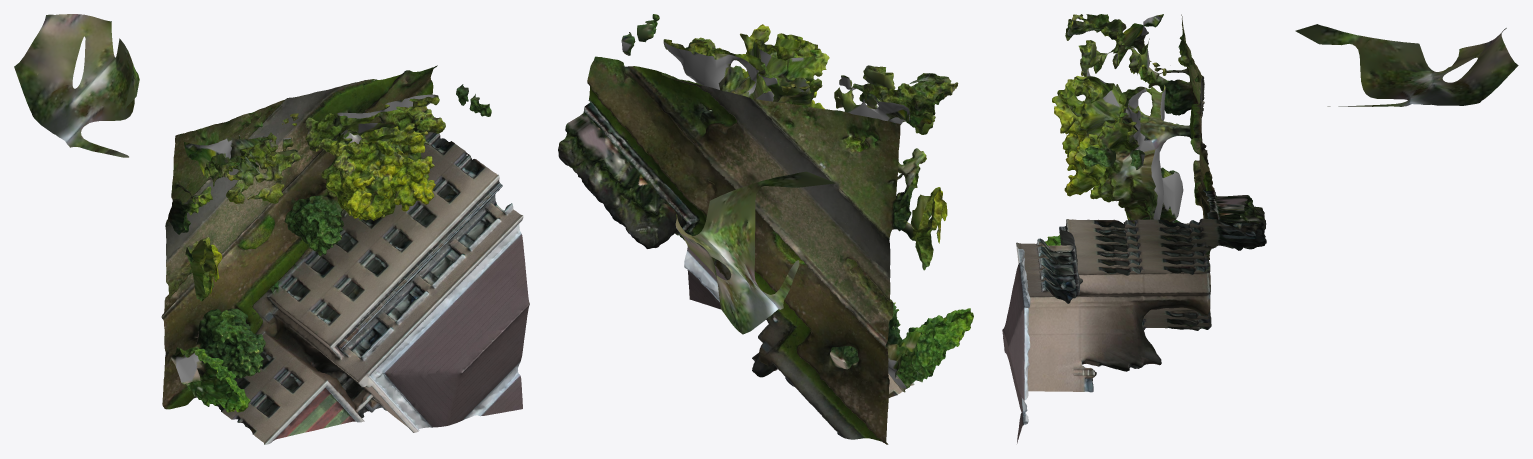
Rendered from Tile_+007_+024.fbx.
3 renders of one model, left to right at view 1: azimuth 30°, elevation 25°; view 2: azimuth 150°, elevation 25°; view 3: azimuth 270°, elevation 25°, orthographic. The views are drawn at different scales.
Parts seen in each view (by area): view 1: DefaultName; view 2: DefaultName; view 3: DefaultName.
Boxes of the visible parts, bbox=[...] form: DefaultName: bbox=[14, 14, 529, 444]; DefaultName: bbox=[558, 14, 973, 444]; DefaultName: bbox=[1002, 14, 1518, 443].
Bounding box in the file's own units: 22.54 × 22.54 × 35.9.
